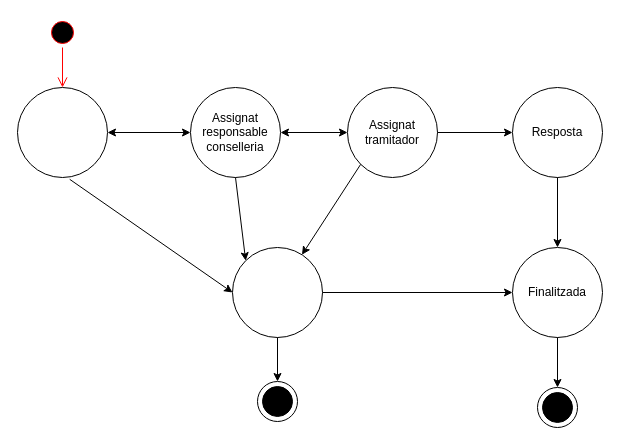
Some shapes in this 620 by 445 pixel diagram are drawn without their labels. Each missing label, with the centre of its shape:
"Assignat equip de filtratge" goes at pixel 62 132.
"Rebutjada" goes at pixel 277 292.
